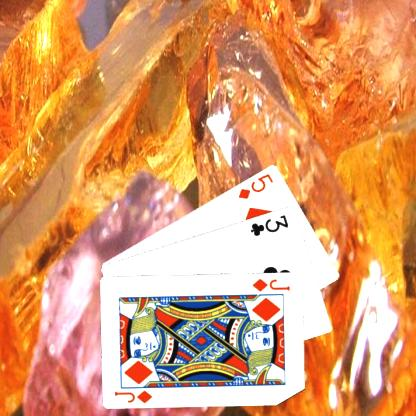3C: (248, 212, 290, 237)
5D: (236, 170, 274, 199)
JD: (249, 275, 291, 293), (112, 388, 154, 404)
